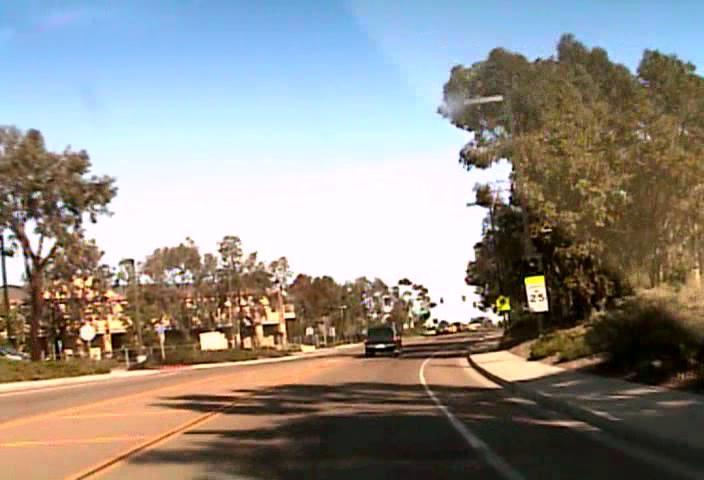schoolSpeedLimit25: (523, 275, 548, 311)
